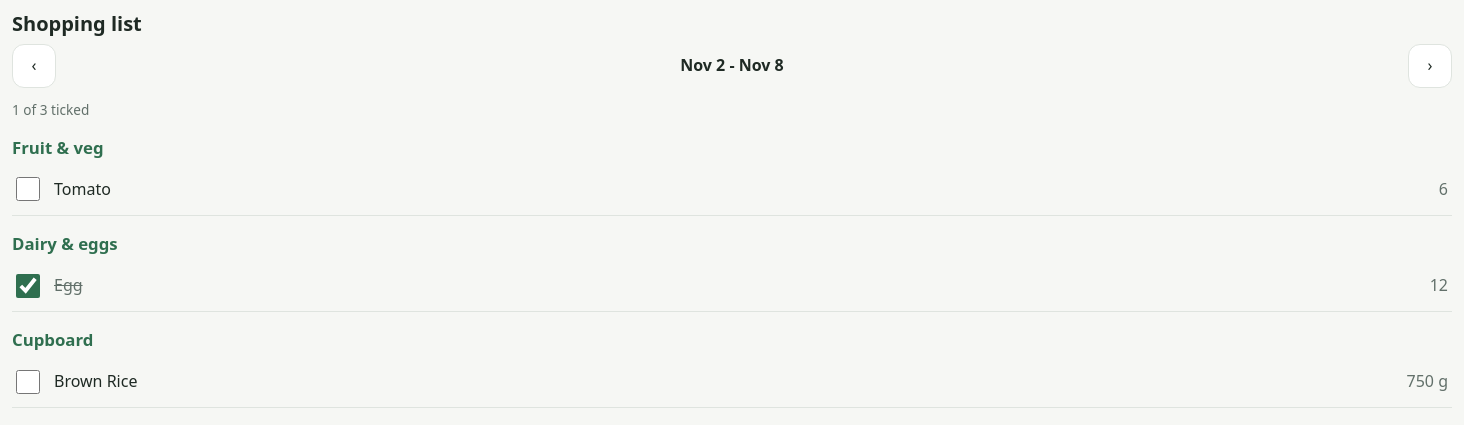
Test: Shopping › ticks an item instantly and saves it
Click the checkbox labelled "tomato 6". click: (28, 189)
box: left=16, top=177, right=40, bottom=201
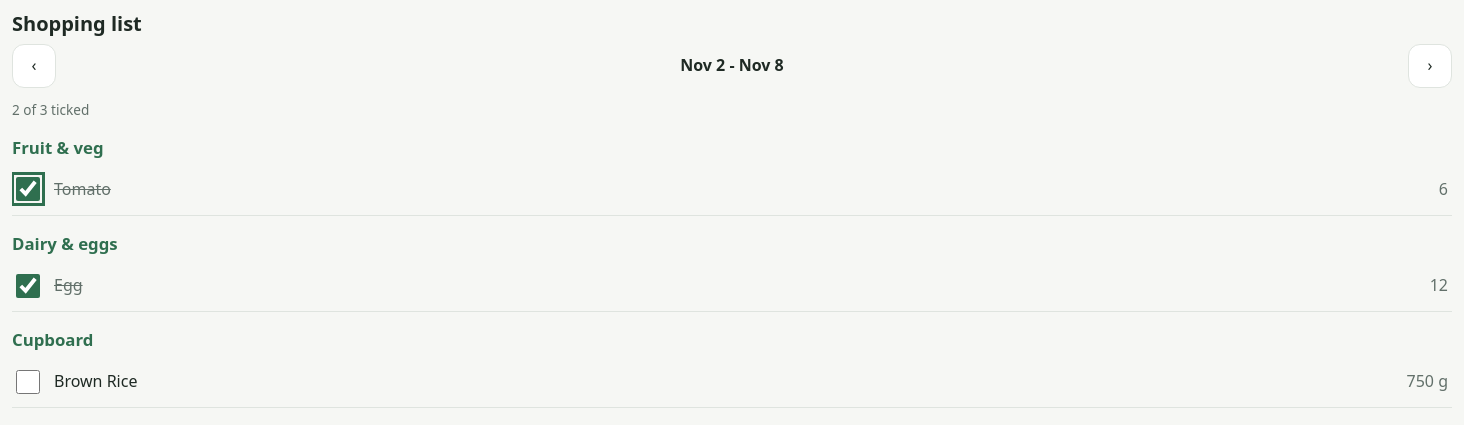
Now the checkbox labelled "tomato 6" is checked, box left=16, top=177, right=40, bottom=201
Now the text "2 of 3 ticked" is shown, box left=12, top=100, right=89, bottom=119
